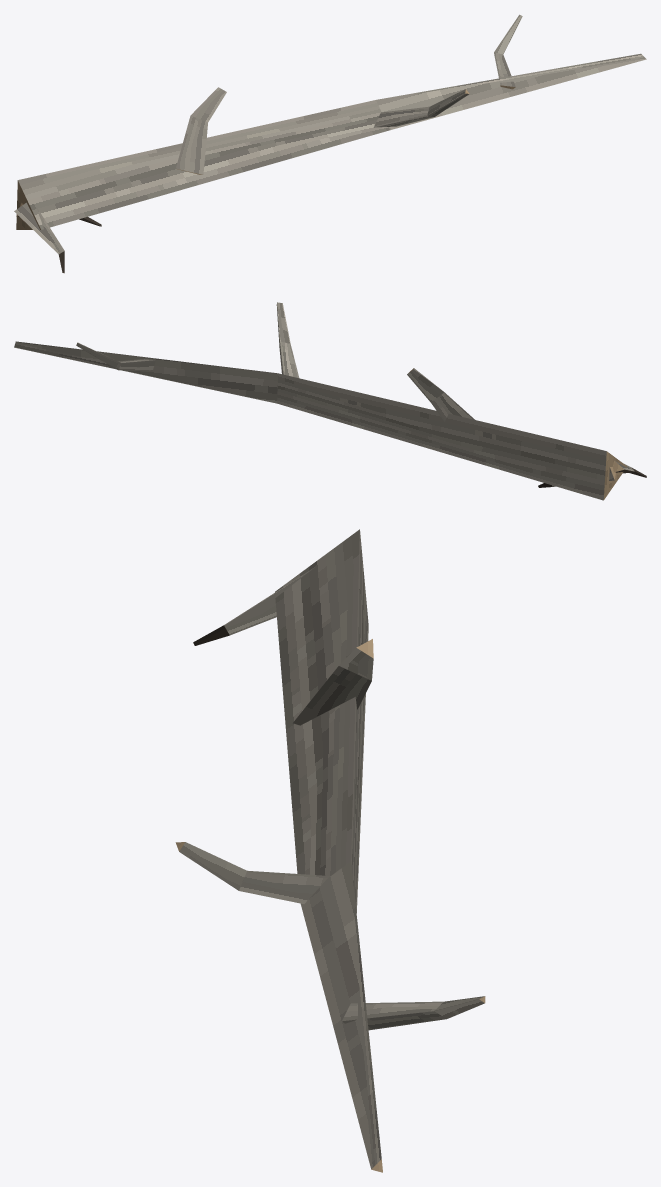
File: long-bole-far.glb
The picture shows the model from 3 angles, top to bottom: view 1: azimuth 30°, elevation 25°; view 2: azimuth 150°, elevation 25°; view 3: azimuth 270°, elevation 25°; orthographic projection. The views are drawn at different scales.
Visible parts, largest first — view 1: long-bole.001; view 2: long-bole.001; view 3: long-bole.001.
Part boxes in pixels (x1,y1,x2,y2): long-bole.001: (14, 14, 646, 273); long-bole.001: (14, 302, 646, 500); long-bole.001: (175, 529, 485, 1172).
Size of the model in its own units: 10.93 by 1.66 by 2.45.
3 materials, 3 textured.
